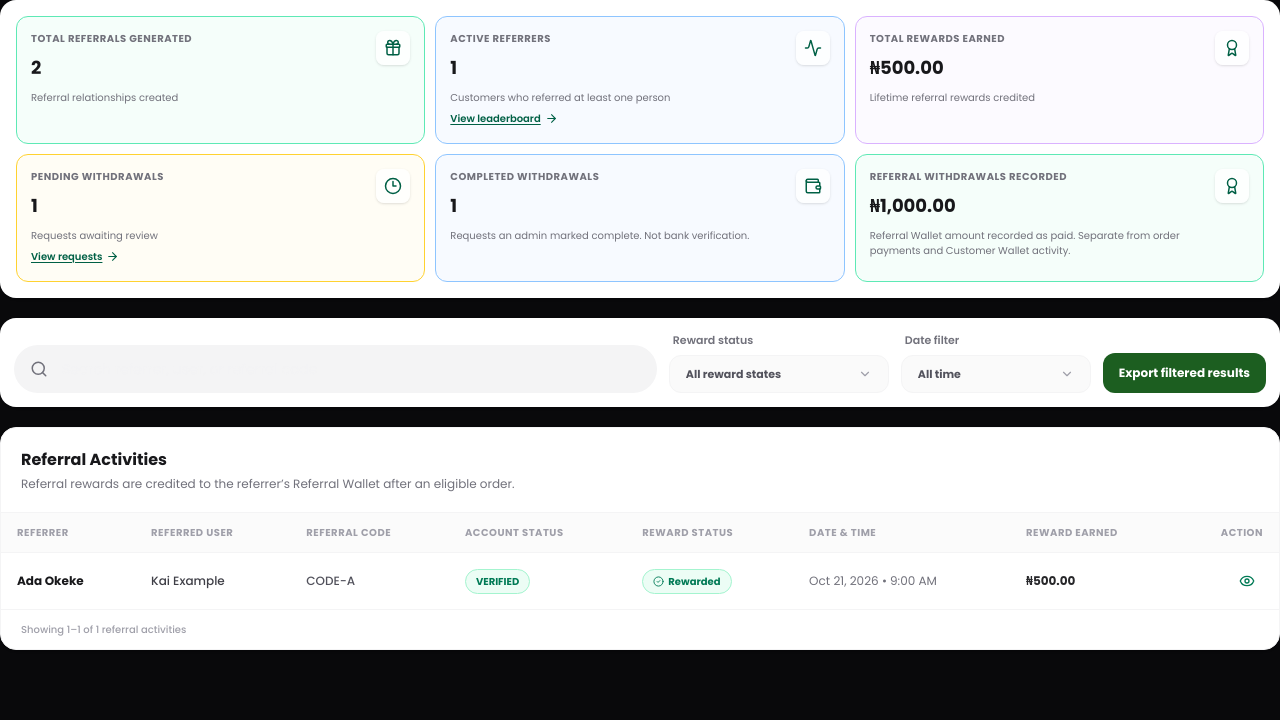
Super Admin referral wallet activities › opens the leaderboard and loads the API ranking
Expected: the text "Ada Okeke" is shown, x1=1 y1=552 x2=135 y2=609
What coordinates should you click on to do the following:
click the button with aria-label "View referral leaderboard"
I would click on:
 (501, 38)
Its box is x1=435 y1=16 x2=845 y2=144.
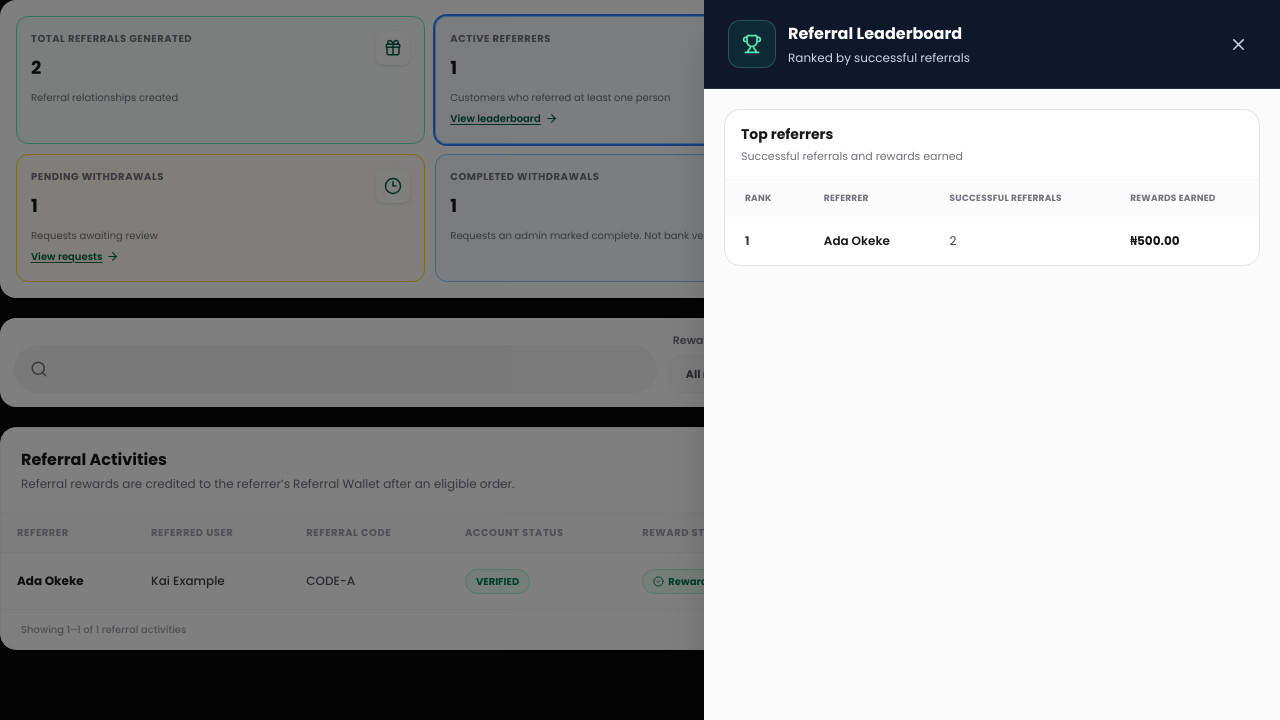
Result: the column heading "Successful referrals" is shown at x1=930 y1=180 x2=1110 y2=217
Result: the text "Ada Okeke" is shown at x1=804 y1=217 x2=930 y2=265
